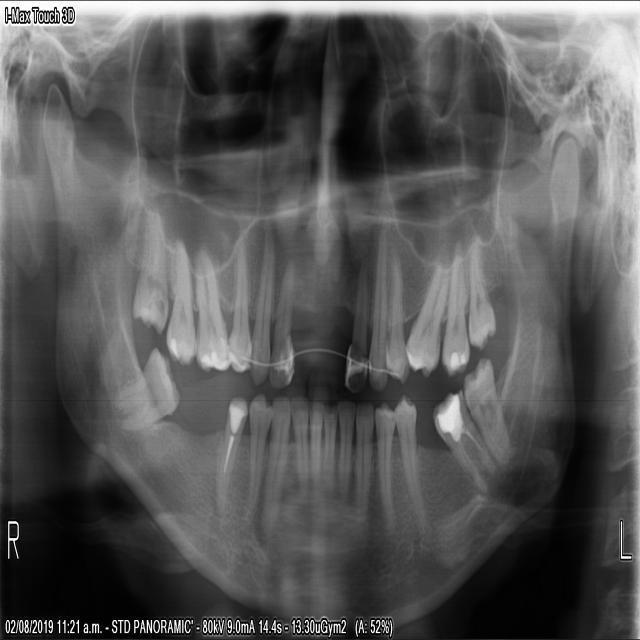LCD: (336, 395, 354, 496)
LCU: (366, 233, 389, 395)
LID: (308, 390, 323, 501), (321, 401, 336, 497)
LIU: (341, 263, 368, 394)
LMD: (426, 387, 497, 492), (459, 351, 509, 475), (393, 388, 426, 519)
LMU: (464, 244, 496, 350)
LPMD: (373, 398, 402, 532), (352, 396, 373, 514)
LPMU: (402, 261, 453, 380), (382, 219, 409, 385), (440, 253, 470, 376)
RCD: (241, 387, 272, 506)
RCU: (248, 235, 274, 385)
RID: (261, 393, 288, 519), (290, 386, 311, 503)
RIU: (265, 255, 297, 393)
RMD: (141, 338, 181, 419)
RMU: (128, 216, 168, 332), (163, 238, 196, 369)
RPMD: (212, 389, 245, 495)
RPMU: (192, 243, 229, 372), (227, 230, 250, 373)
